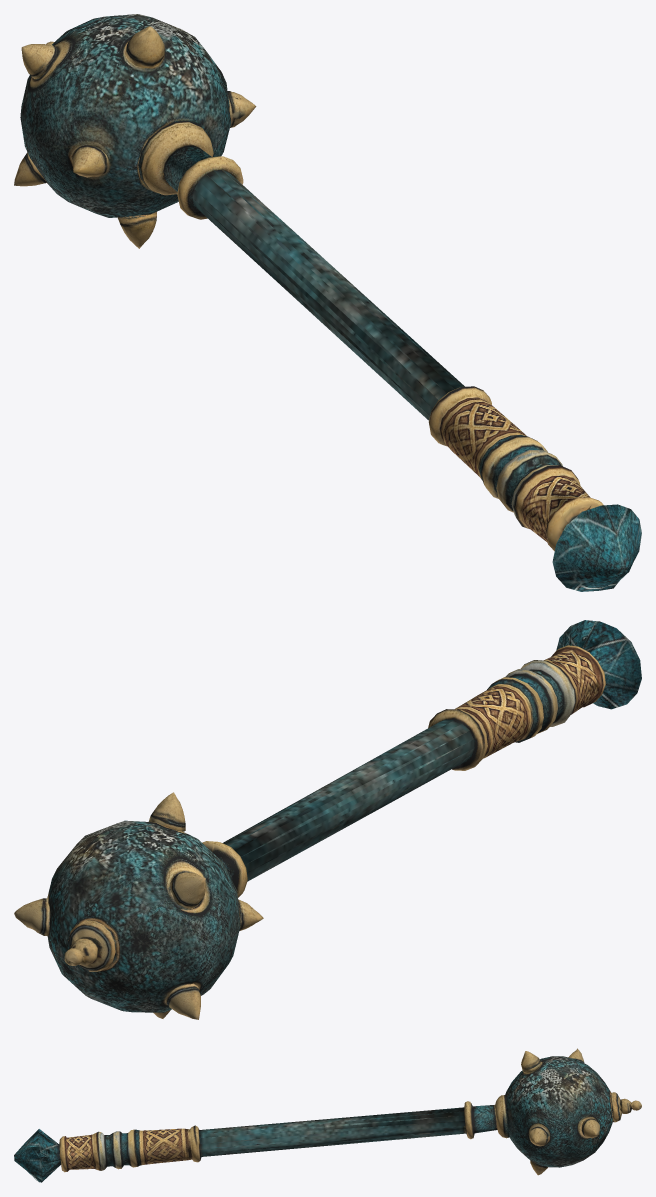
File: item_mace1.glb
3 renders of one model, top to bottom at view 1: azimuth 30°, elevation 25°; view 2: azimuth 150°, elevation 25°; view 3: azimuth 270°, elevation 25°, orthographic. The views are drawn at different scales.
Visible parts, largest first — view 1: Mesh_0; view 2: Mesh_0; view 3: Mesh_0.
Part boxes in pixels (x1,y1,x2,y2): Mesh_0: (14, 14, 641, 591); Mesh_0: (14, 620, 641, 1019); Mesh_0: (14, 1048, 641, 1182).
Bounding box in the file's own units: 0.2015 × 0.2255 × 1.
Materials: 1 (1 with a texture image).
